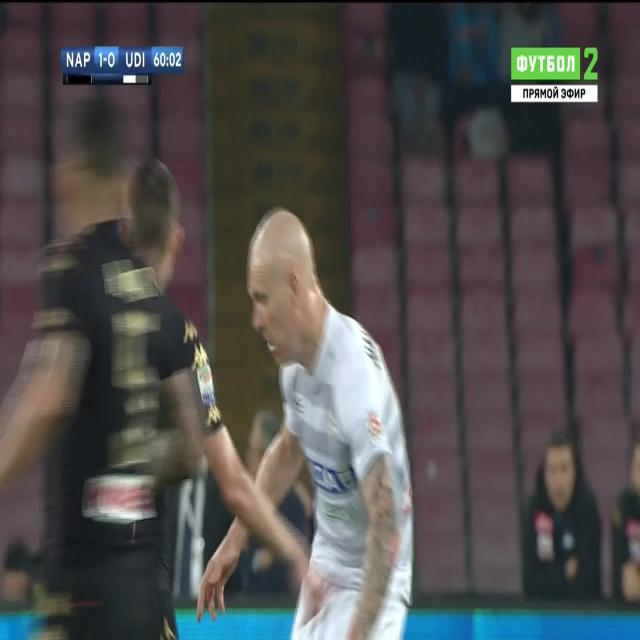Player: (0, 95, 207, 640), (195, 204, 416, 640)
